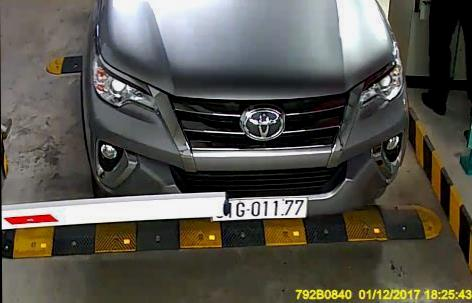License_Plate: (211, 195, 308, 220)
